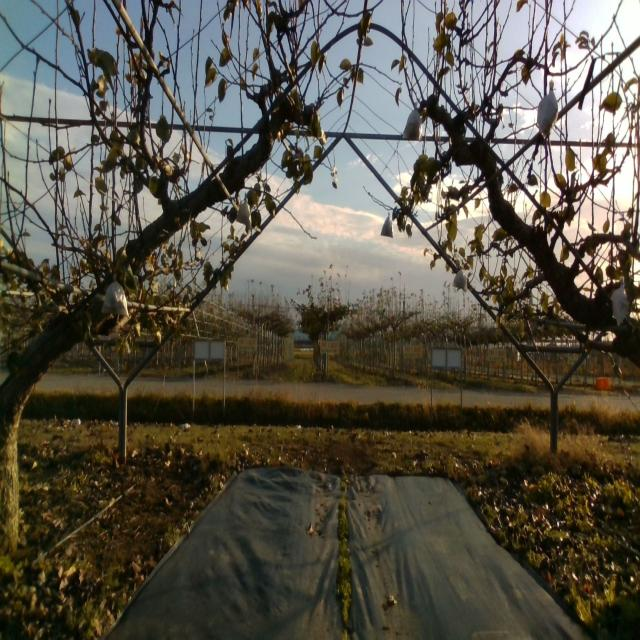pearbags: (100, 273, 130, 317), (538, 82, 558, 140), (612, 275, 630, 323), (401, 103, 421, 141), (236, 195, 254, 227), (452, 267, 468, 290), (380, 212, 393, 237)
